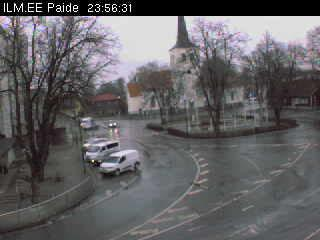car: (101, 150, 140, 178), (84, 140, 120, 162), (83, 139, 108, 151), (81, 121, 100, 131), (80, 116, 94, 126), (107, 119, 118, 128)
